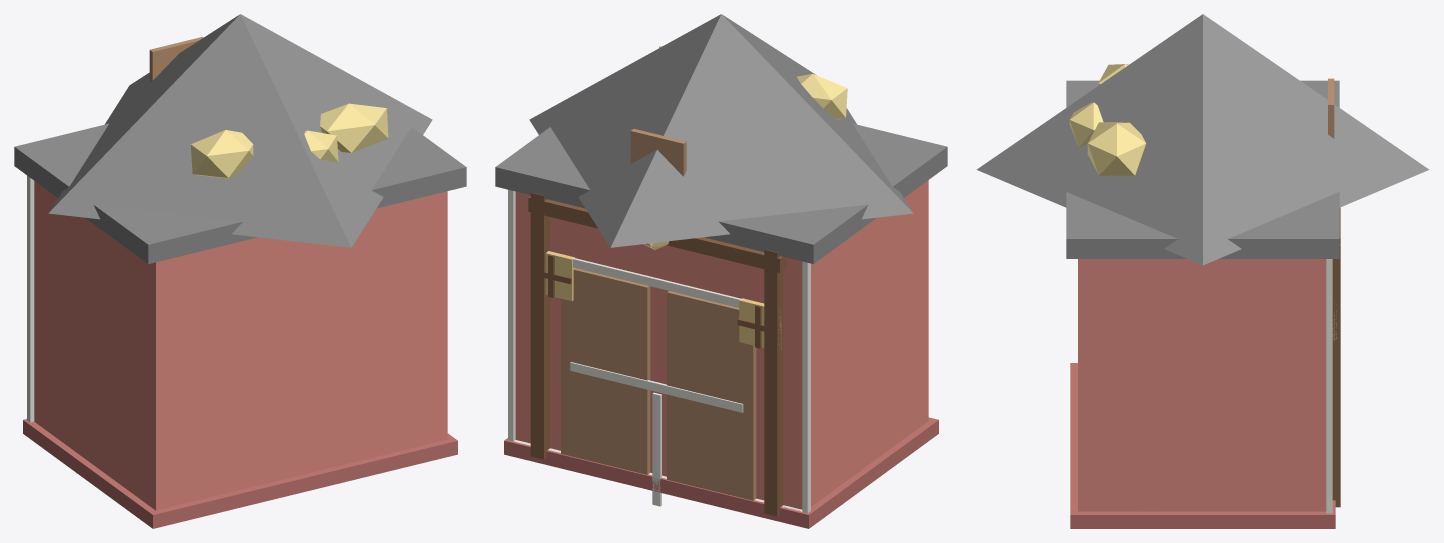
Rendered from barn.glb.
3 views of the same model, side by side, from view 1: azimuth 30°, elevation 25°; view 2: azimuth 150°, elevation 25°; view 3: azimuth 270°, elevation 25° (orthographic). The views are drawn at different scales.
Visible parts, largest first — view 1: barn_root; view 2: barn_root; view 3: barn_root.
Part boxes in pixels (x1,y1,x2,y2): barn_root: (14, 14, 466, 528); barn_root: (495, 14, 947, 528); barn_root: (976, 14, 1429, 528).
Bounding box in the file's own units: 4.08 × 4.5 × 4.08.
